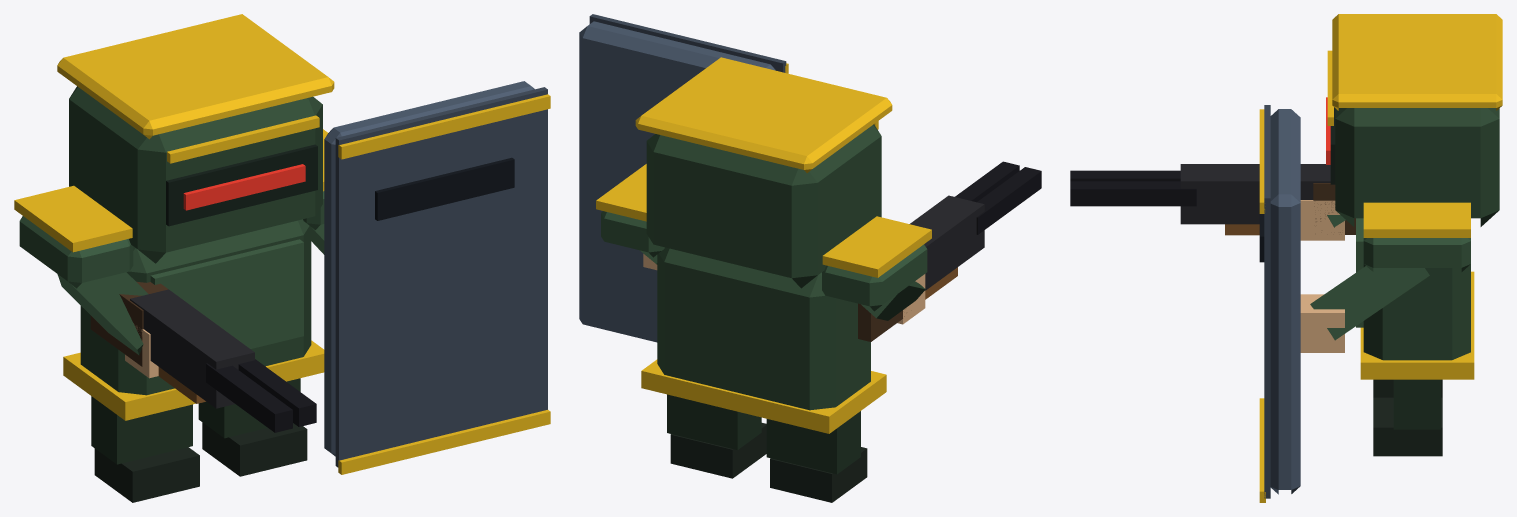
Rendered from breacher.glb.
3 views of the same model, side by side, from view 1: azimuth 30°, elevation 25°; view 2: azimuth 150°, elevation 25°; view 3: azimuth 270°, elevation 25° (orthographic). The views are drawn at different scales.
Visible parts, largest first — view 1: breacher_mesh; view 2: breacher_mesh; view 3: breacher_mesh.
Boxes of the visible parts, bbox=[...] form: breacher_mesh: bbox=[14, 14, 550, 502]; breacher_mesh: bbox=[579, 14, 1041, 502]; breacher_mesh: bbox=[1070, 14, 1502, 502].
Bounding box in the file's own units: 2.22 × 2 × 2.16.
1 material, 1 textured.
